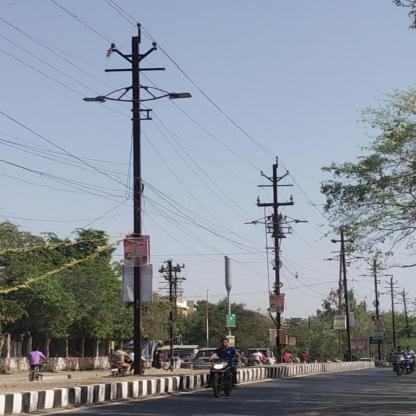Electrical Pole: (89, 18, 190, 374)
